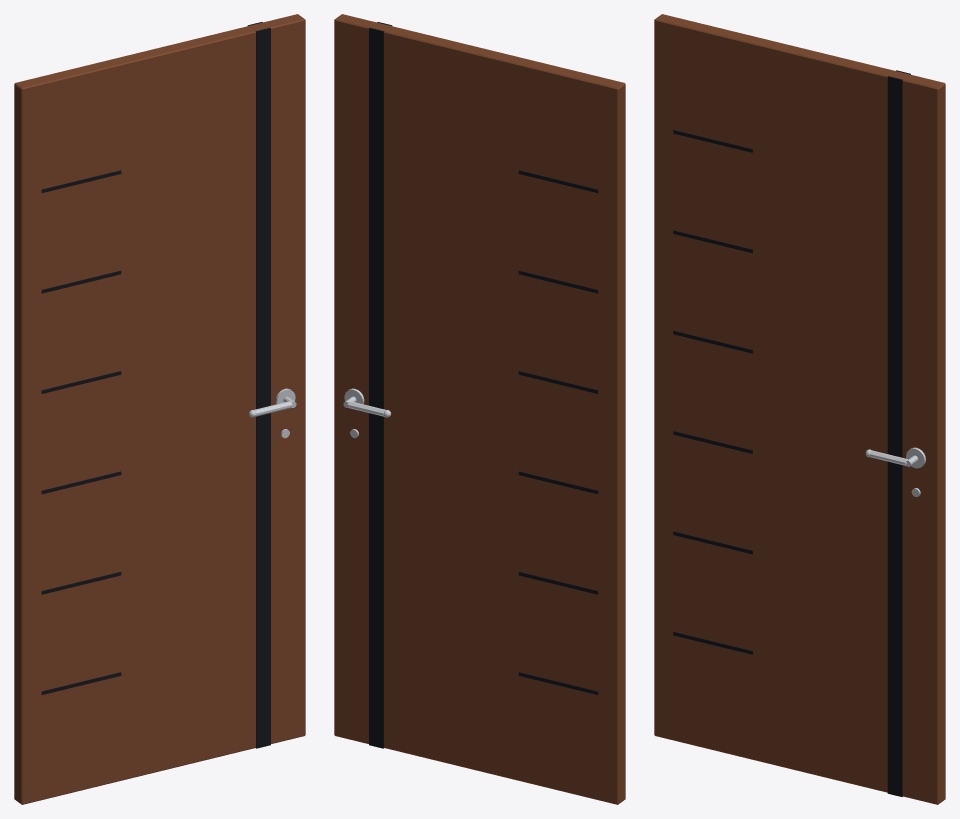
The model's file is porta_faixa_madeira.glb.
3 views of the same model, side by side, from view 1: azimuth 30°, elevation 25°; view 2: azimuth 150°, elevation 25°; view 3: azimuth 330°, elevation 25° (orthographic).
Visible parts, largest first — view 1: porta_faixa_madeira; view 2: porta_faixa_madeira; view 3: porta_faixa_madeira.
Boxes of the visible parts, x1=… form: porta_faixa_madeira: x1=14, y1=14, x2=305, y2=804; porta_faixa_madeira: x1=334, y1=14, x2=625, y2=804; porta_faixa_madeira: x1=654, y1=14, x2=945, y2=804.
Size of the model in its own units: 0.86 by 2.07 by 0.143.
